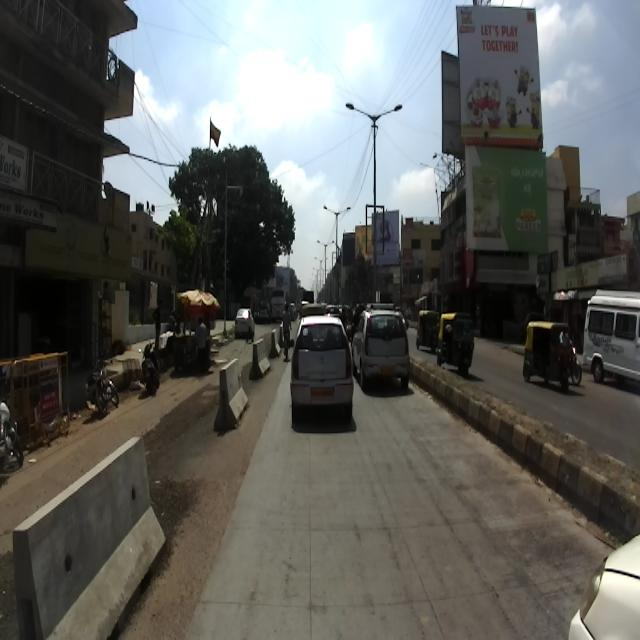barrier ahead at: (15, 432, 166, 640), (218, 351, 250, 427)
car ahead at: (288, 312, 358, 433), (359, 303, 412, 396)
